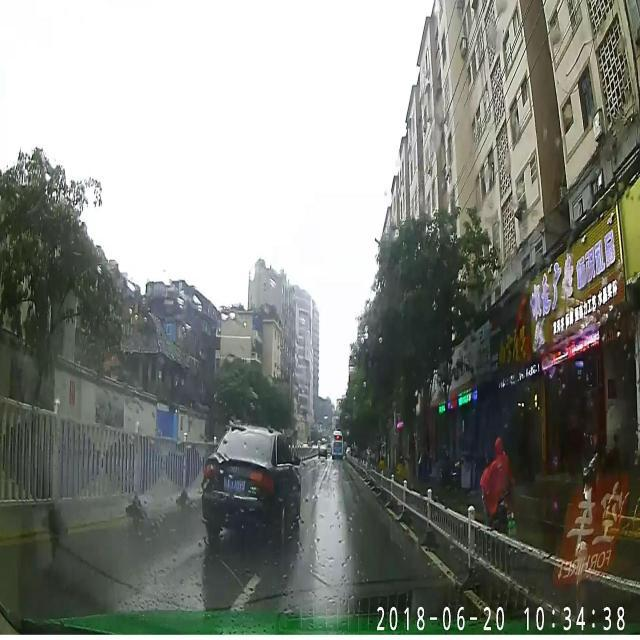car: (203, 423, 300, 535), (318, 444, 326, 457)
